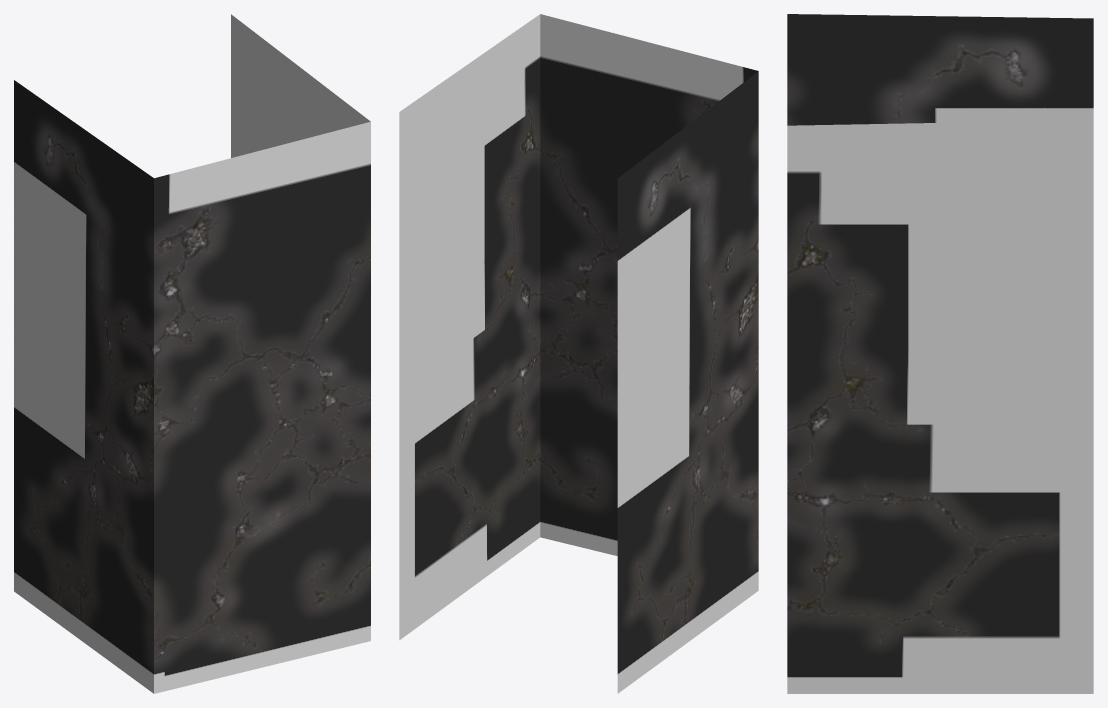
The model's file is Decal_Damage_06.fbx.
3 renders of one model, left to right at view 1: azimuth 30°, elevation 25°; view 2: azimuth 150°, elevation 25°; view 3: azimuth 270°, elevation 25°, orthographic. The views are drawn at different scales.
Visible parts, largest first — view 1: Decal_Damage_06; view 2: Decal_Damage_06; view 3: Decal_Damage_06.
Part boxes in pixels (bbox=[...]): Decal_Damage_06: bbox=[14, 14, 370, 693]; Decal_Damage_06: bbox=[399, 14, 758, 693]; Decal_Damage_06: bbox=[787, 14, 1093, 693].
Bounding box in the file's own units: 30.59 × 34.22 × 70.72.
1 material, 1 textured.
